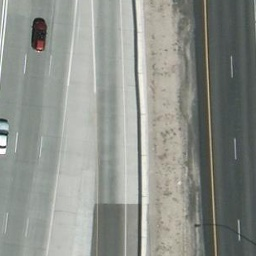car: (33, 21, 47, 53), (1, 120, 9, 154)
